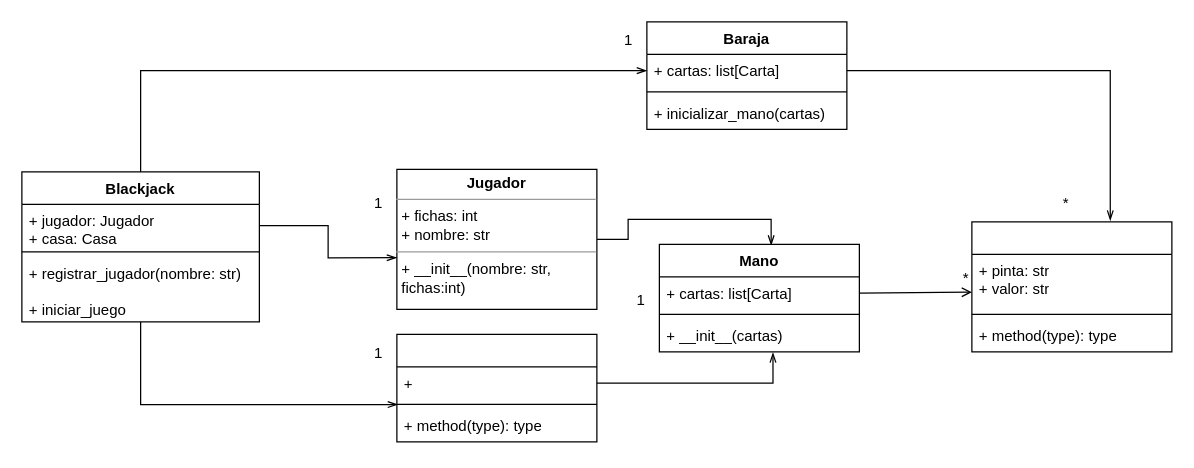
This 1194x468 diagram has some shape labels left out. Each missing label, with the box of its shape:
Carta: (971, 221, 1172, 352)
Casa: (396, 333, 597, 442)
